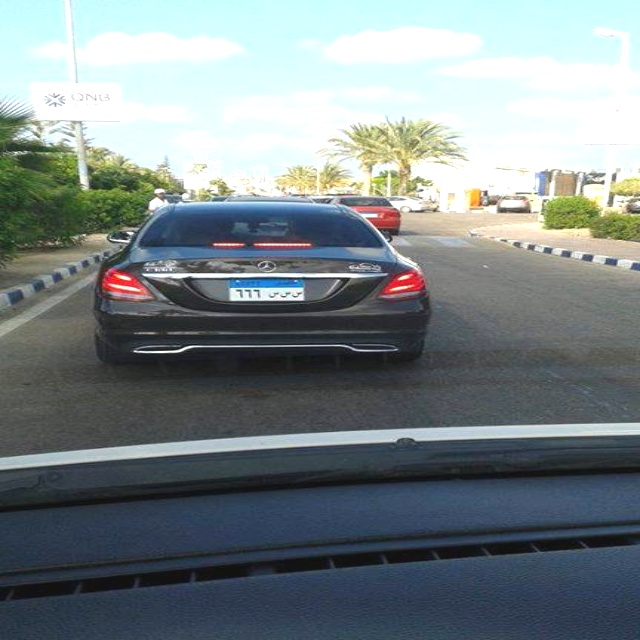License Plate: (225, 277, 307, 302)
